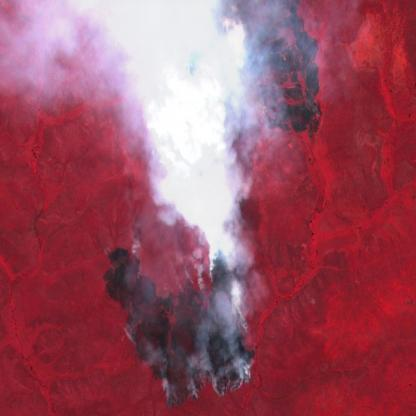fire: (101, 227, 261, 410), (246, 83, 326, 142)
